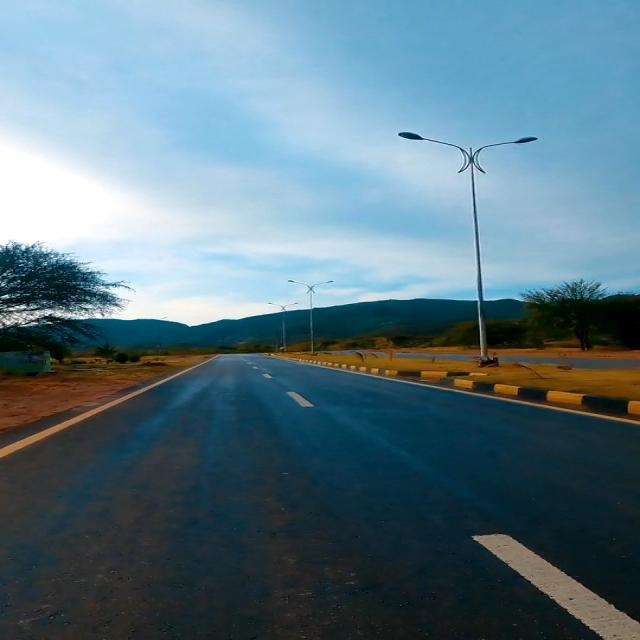lane: (2, 355, 638, 639), (0, 355, 219, 457), (473, 534, 639, 639)
road: (2, 355, 638, 639), (2, 355, 638, 639)
